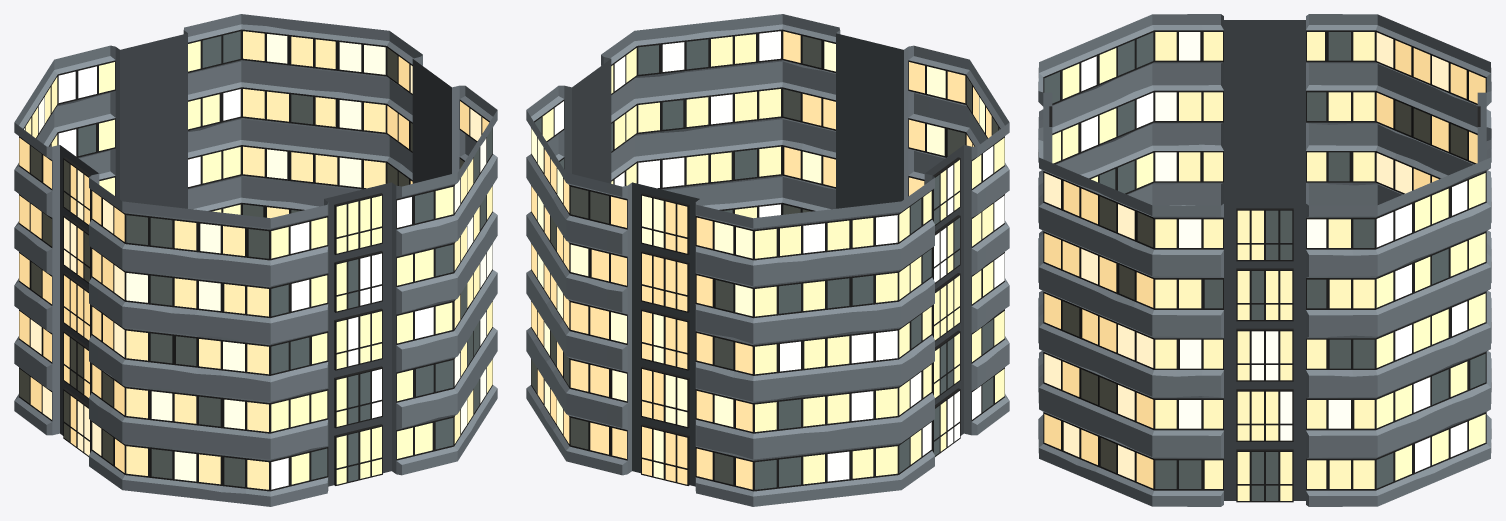
The model's file is SM_Bld_OfficeOctagon_01.fbx.
3 renders of one model, left to right at view 1: azimuth 30°, elevation 25°; view 2: azimuth 150°, elevation 25°; view 3: azimuth 270°, elevation 25°, orthographic. The views are drawn at different scales.
Parts seen in each view (by area): view 1: SM_Bld_OfficeOctagon_01; view 2: SM_Bld_OfficeOctagon_01; view 3: SM_Bld_OfficeOctagon_01.
Part boxes in pixels (x1,y1,x2,y2): SM_Bld_OfficeOctagon_01: (14, 14, 497, 506); SM_Bld_OfficeOctagon_01: (526, 14, 1009, 506); SM_Bld_OfficeOctagon_01: (1038, 14, 1491, 506).
Size of the model in its own units: 2046 by 1500 by 2046.
